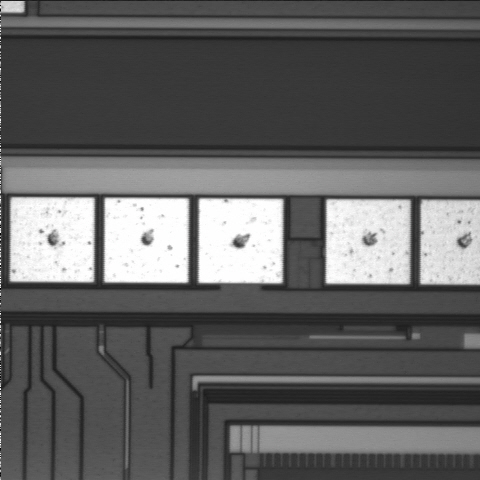pad: (104, 198, 189, 283), (198, 198, 283, 283), (10, 197, 94, 282), (326, 199, 410, 284)
